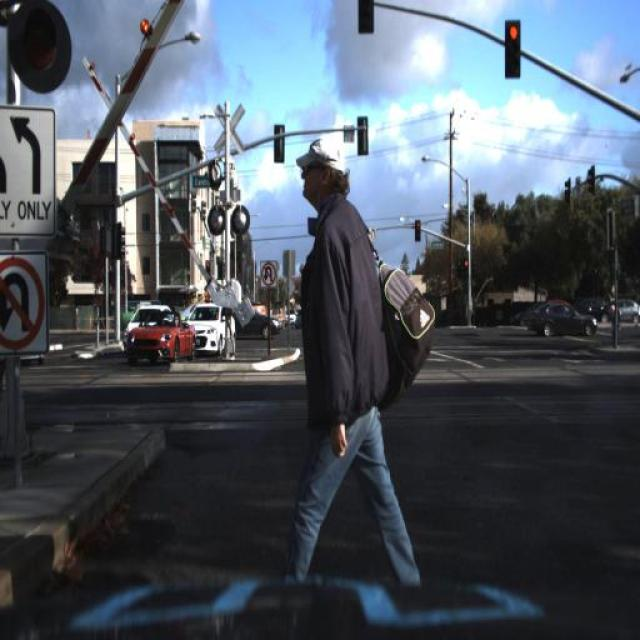car: (122, 309, 196, 362), (528, 296, 600, 342), (219, 304, 282, 347), (556, 293, 622, 329), (114, 304, 157, 355), (504, 300, 544, 325), (508, 300, 542, 328)
trafficLight: (288, 136, 438, 639), (288, 124, 402, 635)
trafficLight-Green: (15, 2, 66, 84), (357, 1, 375, 36)
trafficLight-RedLeft: (503, 20, 522, 78), (412, 213, 423, 246), (462, 252, 471, 284), (414, 216, 420, 242)
